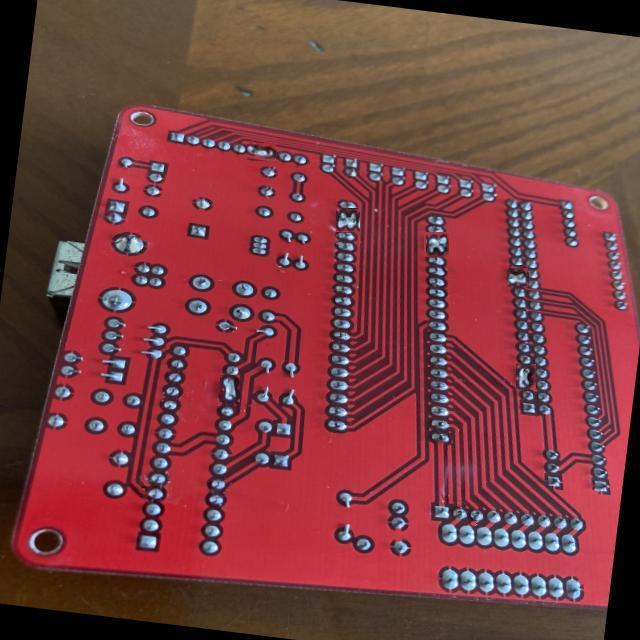damged: (336, 208, 360, 232), (246, 142, 276, 161), (220, 376, 240, 404), (425, 233, 448, 257), (516, 364, 536, 390), (508, 266, 529, 287)
